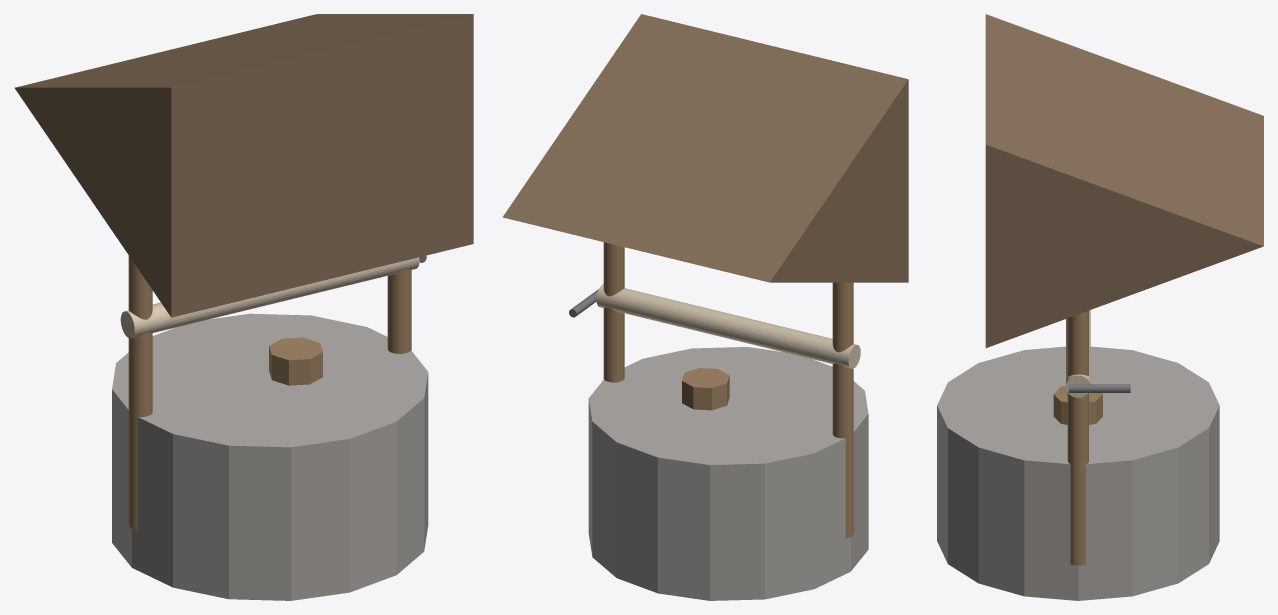
The model's file is water_well.glb.
The picture shows the model from 3 angles, left to right: view 1: azimuth 30°, elevation 25°; view 2: azimuth 150°, elevation 25°; view 3: azimuth 270°, elevation 25°; orthographic projection. The views are drawn at different scales.
Parts seen in each view (by area): view 1: Cylinder.007, Cylinder, Cylinder.002, Cylinder.004, Cylinder.006, Cylinder.003; view 2: Cylinder.007, Cylinder, Cylinder.004, Cylinder.002, Cylinder.003, Cylinder.006; view 3: Cylinder.007, Cylinder, Cylinder.003, Cylinder.006, Cylinder.004, Cylinder.005.
Boxes of the visible parts, x1=… form: Cylinder.007: x1=14, y1=14, x2=473, y2=317; Cylinder: x1=112, y1=313, x2=428, y2=600; Cylinder.002: x1=128, y1=255, x2=152, y2=529; Cylinder.004: x1=120, y1=257, x2=419, y2=338; Cylinder.006: x1=269, y1=337, x2=322, y2=385; Cylinder.003: x1=387, y1=269, x2=411, y2=353; Cylinder.007: x1=502, y1=14, x2=908, y2=282; Cylinder: x1=588, y1=347, x2=868, y2=600; Cylinder.004: x1=596, y1=284, x2=860, y2=368; Cylinder.002: x1=832, y1=282, x2=853, y2=537; Cylinder.003: x1=603, y1=242, x2=624, y2=382; Cylinder.006: x1=682, y1=368, x2=729, y2=410; Cylinder.007: x1=985, y1=14, x2=1263, y2=347; Cylinder: x1=937, y1=346, x2=1219, y2=600; Cylinder.003: x1=1067, y1=310, x2=1088, y2=565; Cylinder.006: x1=1053, y1=386, x2=1102, y2=424; Cylinder.004: x1=1066, y1=310, x2=1090, y2=397; Cylinder.005: x1=1068, y1=384, x2=1130, y2=392.
Size of the model in its own units: 1.75 by 2.89 by 1.85.
